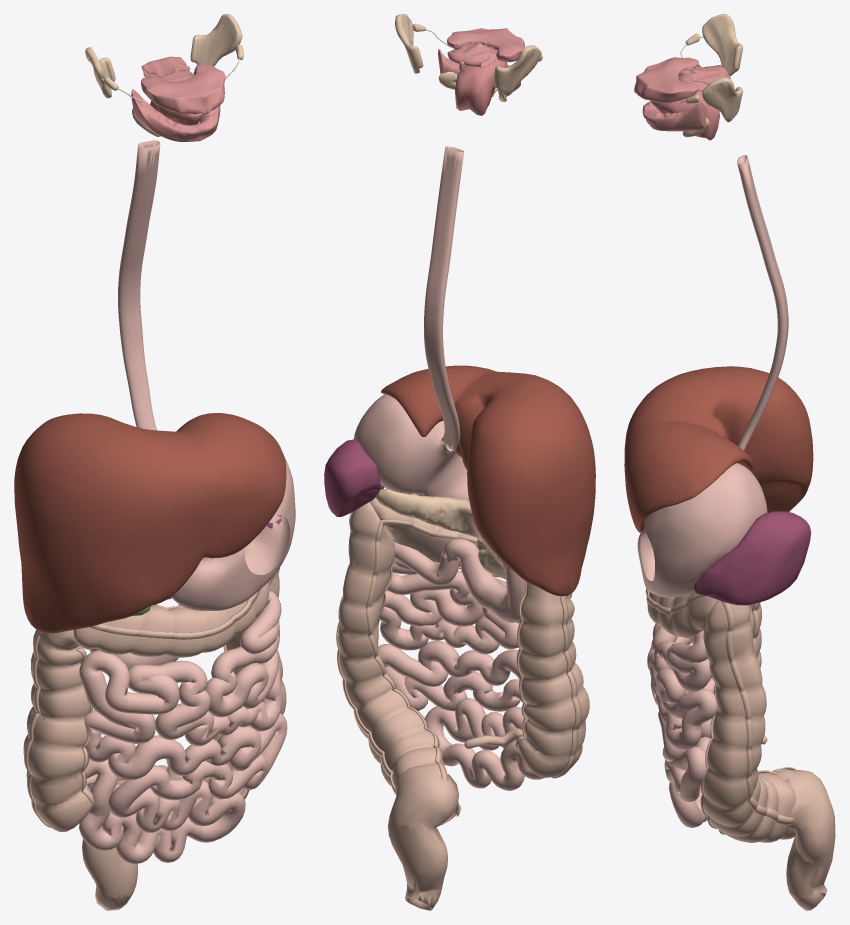
3 views of the same model, side by side, from view 1: azimuth 30°, elevation 25°; view 2: azimuth 150°, elevation 25°; view 3: azimuth 270°, elevation 25° (orthographic). The views are drawn at different scales.
Visible parts, largest first — view 1: Dig_Liver, Dig_Ileum, Dig_Jejunum, Dig_Ascending_Colon, Dig_Oesophagus, Dig_Transverse_Colon, Dig_Stomach, Dig_Gingiva, Dig_Mesocolic_Taenia, Dig_Rectum, Dig_Parotid_Gland_Left, Dig_Caecum (+4 smaller); view 2: Dig_Liver, Dig_Ileum, Dig_Descending_Colon, Dig_Jejunum, Dig_Ascending_Colon, Dig_Stomach, Dig_Oesophagus, Dig_Rectum, Dig_Sigmoid_Colon, Dig_Pancreas, Organ_Spleen, Dig_Duodenum (+10 smaller); view 3: Dig_Liver, Dig_Descending_Colon, Dig_Stomach, Organ_Spleen, Dig_Jejunum, Dig_Gingiva, Dig_Oesophagus, Dig_Ileum, Dig_Rectum, Dig_Mesocolic_Taenia, Dig_Sigmoid_Colon, Dig_Transverse_Colon (+5 smaller).
Part boxes in pixels (x1,y1,x2,y2): Dig_Liver: (14, 413, 286, 633); Dig_Ileum: (79, 650, 287, 863); Dig_Jejunum: (128, 591, 283, 746); Dig_Ascending_Colon: (23, 629, 90, 804); Dig_Oesophagus: (118, 140, 160, 430); Dig_Transverse_Colon: (73, 542, 274, 657); Dig_Stomach: (171, 458, 295, 610); Dig_Gingiva: (131, 63, 225, 141); Dig_Mesocolic_Taenia: (24, 589, 260, 827); Dig_Rectum: (82, 826, 137, 898); Dig_Parotid_Gland_Left: (190, 14, 242, 66); Dig_Caecum: (32, 795, 92, 831); Dig_Liver: (381, 365, 595, 596); Dig_Ileum: (378, 620, 544, 790); Dig_Descending_Colon: (338, 502, 458, 825); Dig_Jejunum: (379, 541, 519, 654); Dig_Ascending_Colon: (518, 582, 589, 754); Dig_Stomach: (353, 394, 469, 500); Dig_Oesophagus: (424, 146, 464, 450); Dig_Rectum: (388, 815, 447, 904); Dig_Sigmoid_Colon: (390, 765, 458, 830); Dig_Pancreas: (376, 489, 506, 579); Organ_Spleen: (324, 439, 384, 516); Dig_Duodenum: (442, 538, 526, 622); Dig_Liver: (624, 366, 813, 532); Dig_Descending_Colon: (703, 600, 795, 842); Dig_Stomach: (637, 463, 767, 597); Organ_Spleen: (694, 511, 811, 605); Dig_Jejunum: (647, 624, 718, 750); Dig_Gingiva: (634, 57, 706, 131); Dig_Oesophagus: (737, 155, 788, 450); Dig_Ileum: (658, 636, 714, 827); Dig_Rectum: (786, 816, 835, 898); Dig_Mesocolic_Taenia: (645, 588, 793, 825); Dig_Sigmoid_Colon: (785, 770, 834, 831); Dig_Transverse_Colon: (647, 591, 717, 638).
Size of the model in its own units: 0.2292 by 0.7726 by 0.1712.
